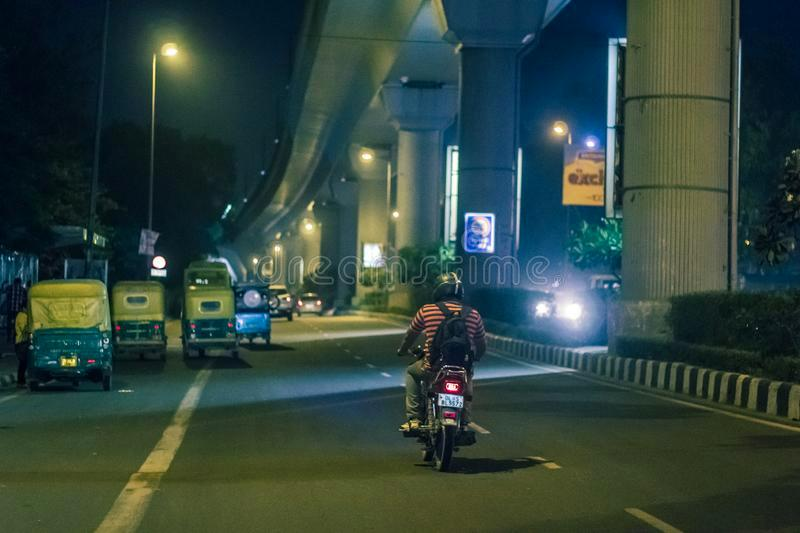With Helmet: (427, 267, 487, 306)
